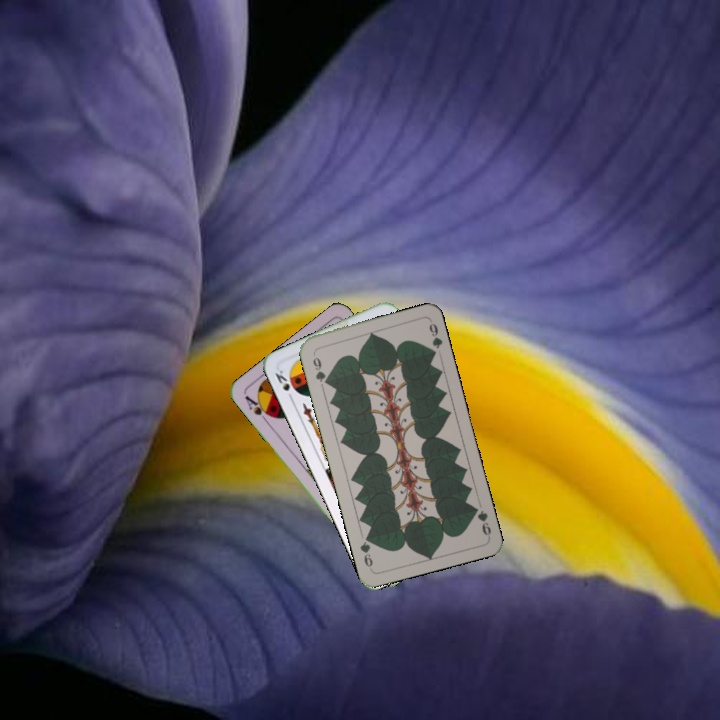G9: (468, 502, 494, 540), (309, 349, 331, 387)
SA: (240, 391, 275, 426)
SK: (271, 366, 296, 404)
